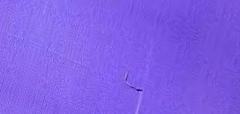snag: (120, 71, 148, 94)
